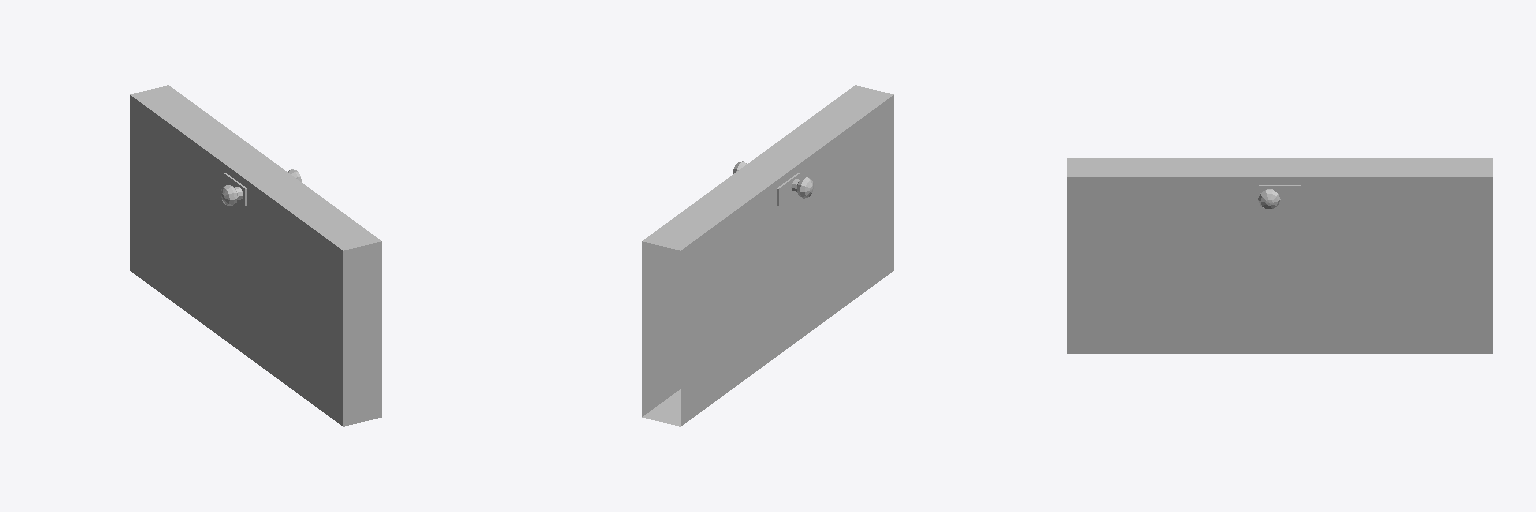
The model's file is f_Door(Reverse_open_Max).obj.
The picture shows the model from 3 angles: view 1: azimuth 30°, elevation 25°; view 2: azimuth 150°, elevation 25°; view 3: azimuth 270°, elevation 25°; orthographic projection.
Parts seen in each view (by area): view 1: Door.004; view 2: Door.004; view 3: Door.004.
Part boxes in pixels (bbox=[...]): Door.004: bbox=[130, 85, 381, 426]; Door.004: bbox=[642, 85, 893, 426]; Door.004: bbox=[1067, 158, 1492, 353].
Size of the model in its own units: 4 by 8.65 by 19.